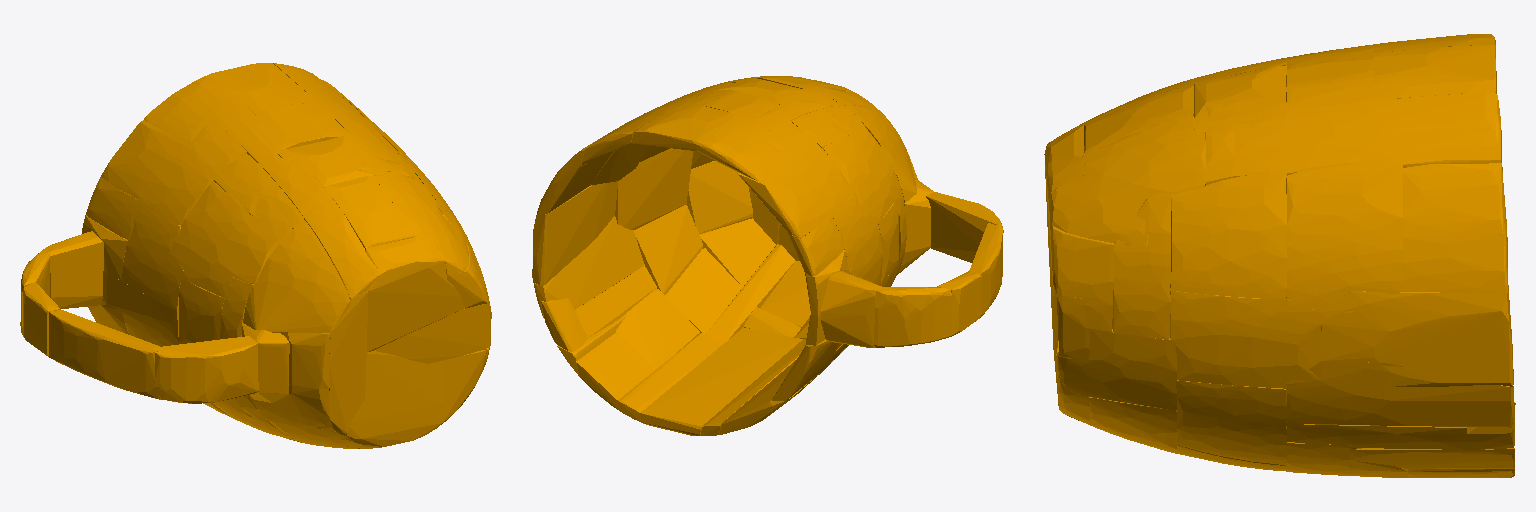
The robot description file, URDF, robot "cup-yellow":
<?xml version="1.0" ?>
<robot name="cup-yellow">
  <link name="baseLink">
    <contact>
      <lateral_friction value="1.0"/>
      <inertia_scaling value="3.0"/>
    </contact>
    <inertial>
      <origin rpy="0 0 0" xyz="0.000 0.000 0.000"/>
       <mass value=".1"/>
       <inertia ixx="1" ixy="0.0" ixz="0.0" iyy="1" iyz="0.0" izz="1"/>
    </inertial>
    <visual>
      <origin rpy="0 0 0" xyz="0 0 0"/>
      <geometry>
        <mesh filename="cup/cup-yellow_handle.obj" scale="1.0 1.0 1.0"/>
      </geometry>
    </visual>
    <collision>
      <origin rpy="0 0 0" xyz="0 0 0"/>
      <geometry>
        <mesh filename="../collision/cup/cup-yellow_handle.obj" scale="1.0 1.0 1.0"/>
      </geometry>
    </collision>
  </link>
</robot>
        

--- Render facts (derived) ---
3 views of the same robot in one strip: view 1: azimuth 30°, elevation 25°; view 2: azimuth 150°, elevation 25°; view 3: azimuth 270°, elevation 25° (orthographic).
Model cup-yellow with 1 links and 0 joints (none), rooted at baseLink, posed every joint at zero.
Visible links, largest first — view 1: baseLink; view 2: baseLink; view 3: baseLink.
Link boxes in pixels (x1=…): baseLink: x1=20, y1=63, x2=491, y2=448; baseLink: x1=532, y1=76, x2=1003, y2=435; baseLink: x1=1044, y1=34, x2=1515, y2=477.
Bounding box of the posed robot: 0.1182 × 0.0929 × 0.0864 m (x, y, z).
1 mesh visuals loaded from 1 distinct referenced files (1 OBJ).